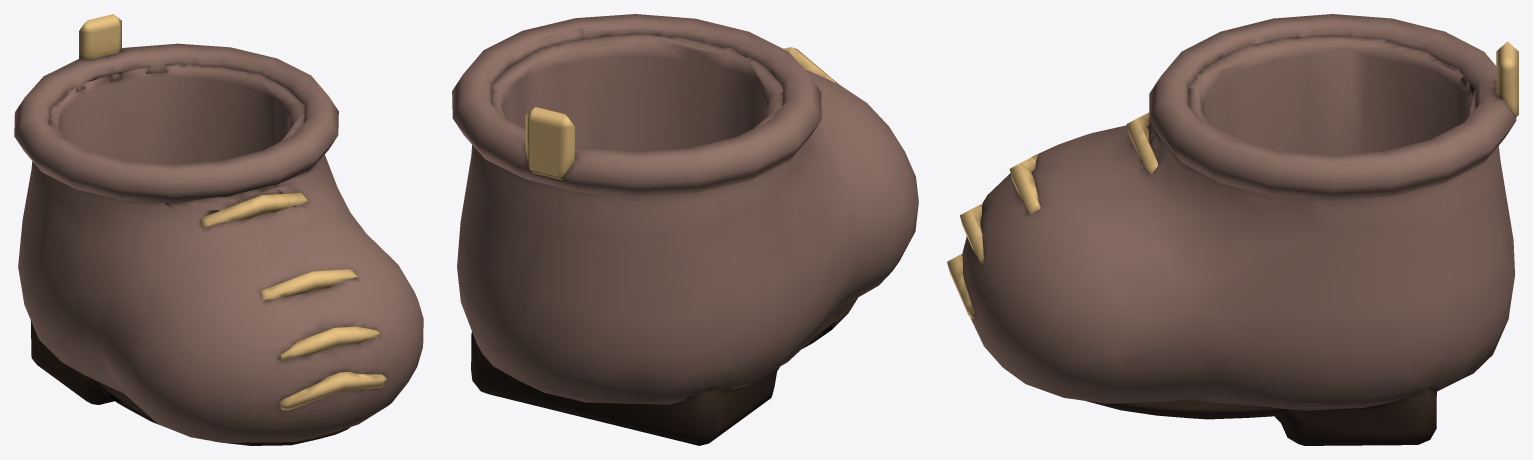
The model's file is char_shoe_boot.glb.
3 views of the same model, side by side, from view 1: azimuth 30°, elevation 25°; view 2: azimuth 150°, elevation 25°; view 3: azimuth 270°, elevation 25° (orthographic). The views are drawn at different scales.
Visible parts, largest first — view 1: char_shoe_boot; view 2: char_shoe_boot; view 3: char_shoe_boot.
Boxes of the visible parts, bbox=[...] form: char_shoe_boot: bbox=[14, 14, 423, 445]; char_shoe_boot: bbox=[452, 14, 918, 445]; char_shoe_boot: bbox=[947, 14, 1518, 445].
Size of the model in its own units: 0.2 by 0.2006 by 0.3011.
3 materials, 3 textured.
